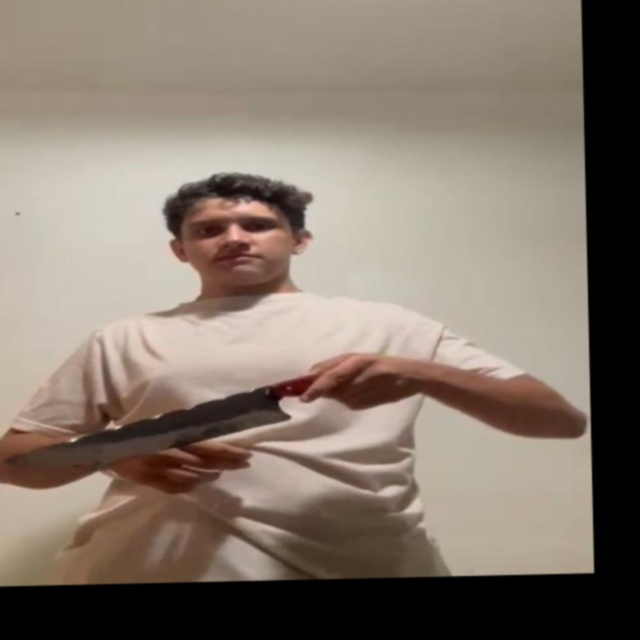Sharp-Object: (7, 390, 298, 467)
